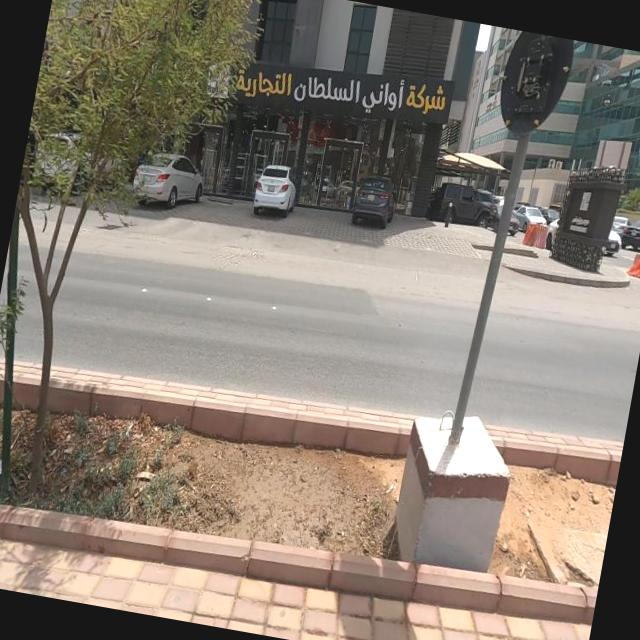debris: (111, 409, 180, 536), (0, 428, 38, 515)
